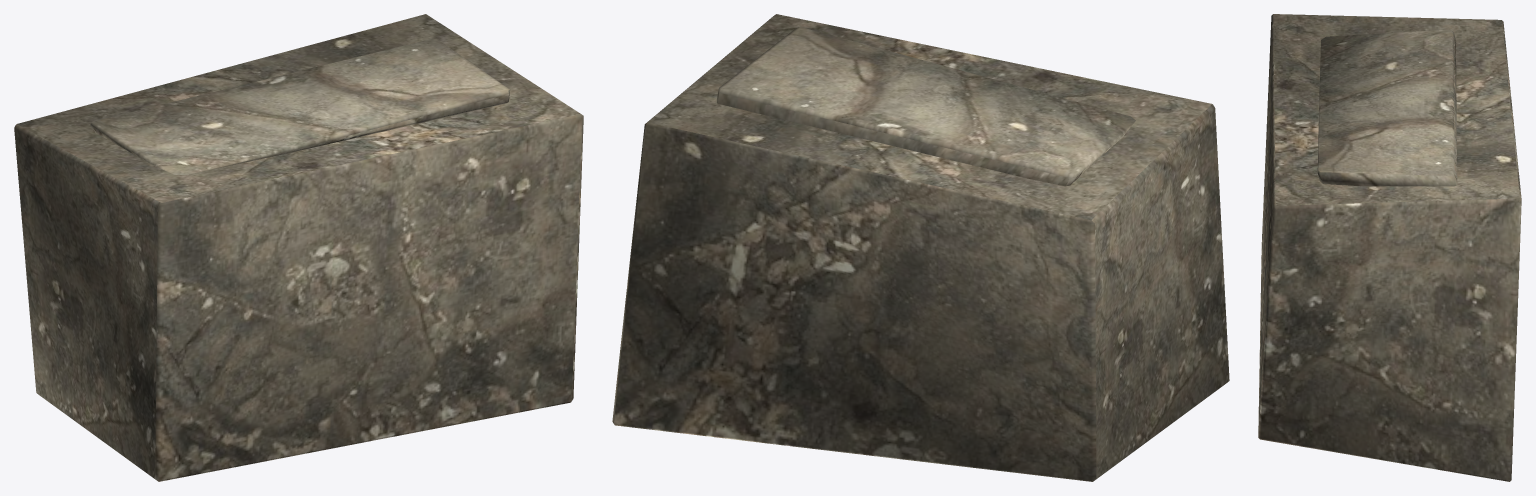
File: kit_lw_edging_stone_p.glb
3 views of the same model, side by side, from view 1: azimuth 30°, elevation 25°; view 2: azimuth 150°, elevation 25°; view 3: azimuth 270°, elevation 25° (orthographic). The views are drawn at different scales.
Visible parts, largest first — view 1: kit_lw_edging_stone_p; view 2: kit_lw_edging_stone_p; view 3: kit_lw_edging_stone_p.
Boxes of the visible parts, x1,y1,x2,y2 form: kit_lw_edging_stone_p: [14, 14, 583, 481]; kit_lw_edging_stone_p: [612, 14, 1229, 481]; kit_lw_edging_stone_p: [1258, 14, 1521, 481].
Bounding box in the file's own units: 0.6839 × 0.4559 × 0.3866.
Materials: 1 (1 with a texture image).
